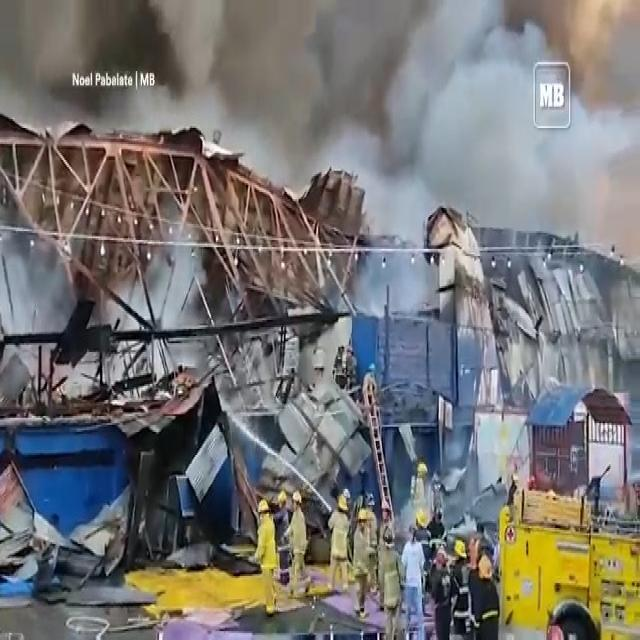Smoke: (0, 0, 640, 233), (0, 233, 109, 423), (99, 198, 208, 348)
